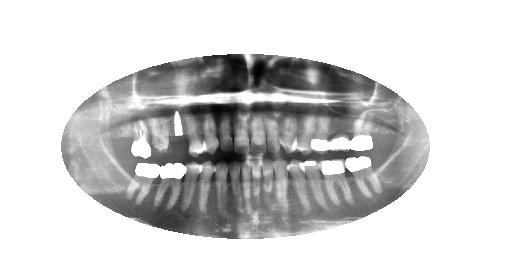Fillings: (316, 157, 353, 207), (344, 155, 385, 199), (127, 161, 160, 206), (159, 162, 188, 210), (125, 118, 155, 162), (324, 110, 355, 152), (348, 111, 376, 153), (308, 119, 329, 153)
